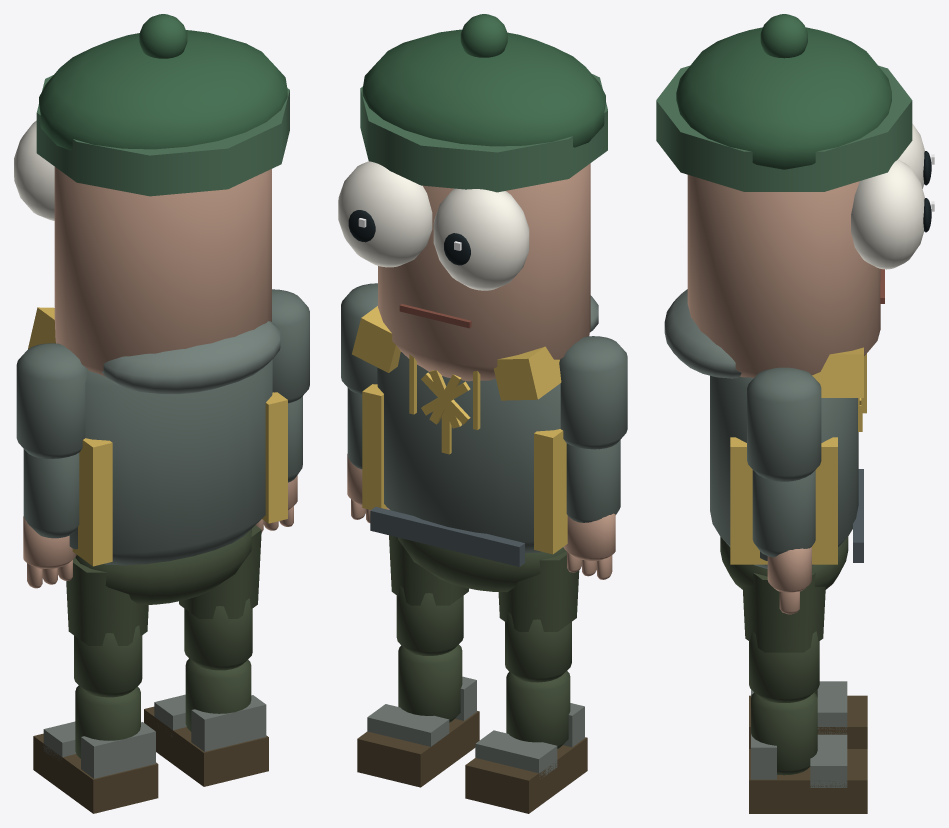
Rendered from spectator_3.glb.
3 renders of one model, left to right at view 1: azimuth 30°, elevation 25°; view 2: azimuth 150°, elevation 25°; view 3: azimuth 270°, elevation 25°, orthographic. The views are drawn at different scales.
Parts seen in each view (by area): view 1: Head, RallySpectator, LeftShin, RightShin, LeftLeg, LeftArm, LeftForearm, RightLeg, RightArm, RightForearm; view 2: Head, RallySpectator, LeftShin, RightShin, LeftLeg, LeftArm, LeftForearm, RightLeg, RightArm, RightForearm; view 3: Head, RallySpectator, RightShin, RightLeg, RightArm, RightForearm, LeftShin.
Boxes of the visible parts, x1=… form: Head: x1=14, y1=14, x2=289, y2=376; RallySpectator: x1=28, y1=307, x2=287, y2=604; LeftShin: x1=33, y1=685, x2=158, y2=813; RightShin: x1=144, y1=658, x2=268, y2=786; LeftLeg: x1=66, y1=557, x2=148, y2=697; LeftArm: x1=16, y1=343, x2=88, y2=458; LeftForearm: x1=23, y1=449, x2=79, y2=588; RightLeg: x1=179, y1=525, x2=261, y2=670; RightArm: x1=272, y1=289, x2=309, y2=403; RightForearm: x1=255, y1=396, x2=302, y2=532; Head: x1=338, y1=14, x2=607, y2=381; RallySpectator: x1=352, y1=295, x2=598, y2=592; LeftShin: x1=465, y1=671, x2=587, y2=813; RightShin: x1=357, y1=644, x2=479, y2=787; LeftLeg: x1=498, y1=551, x2=579, y2=682; LeftArm: x1=559, y1=336, x2=627, y2=449; LeftForearm: x1=563, y1=440, x2=620, y2=579; RightLeg: x1=389, y1=535, x2=468, y2=655; RightArm: x1=341, y1=283, x2=377, y2=394; RightForearm: x1=347, y1=388, x2=389, y2=522; Head: x1=656, y1=14, x2=934, y2=377; RallySpectator: x1=664, y1=289, x2=866, y2=589; RightShin: x1=749, y1=692, x2=867, y2=813; RightLeg: x1=742, y1=573, x2=825, y2=702; RightArm: x1=747, y1=367, x2=821, y2=481; RightForearm: x1=752, y1=470, x2=815, y2=614; LeftShin: x1=749, y1=681, x2=867, y2=748.
Bounding box in the file's own units: 0.87 × 2.25 × 0.7505.
